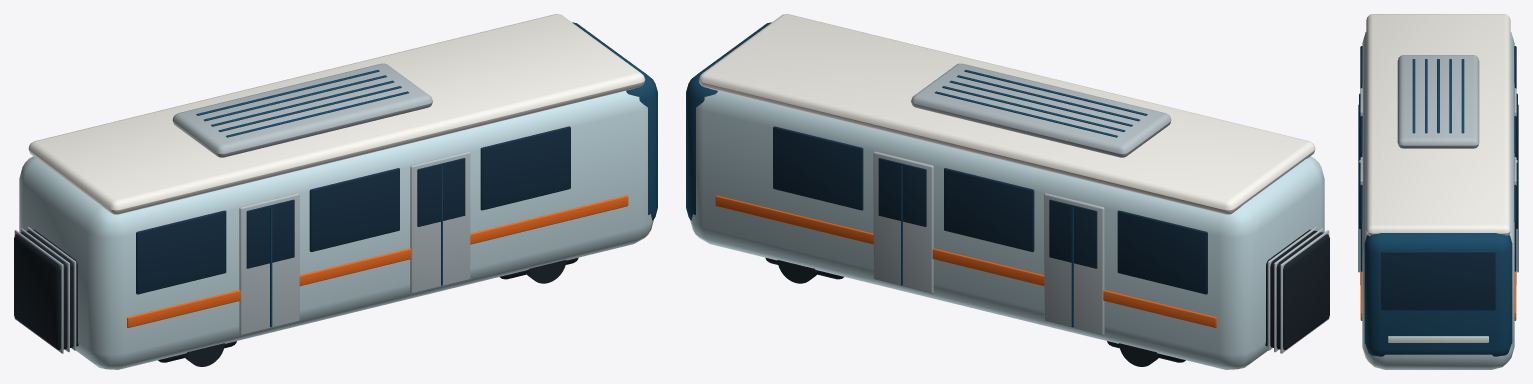
Rendered from lrt-car.glb.
3 views of the same model, side by side, from view 1: azimuth 30°, elevation 25°; view 2: azimuth 150°, elevation 25°; view 3: azimuth 270°, elevation 25° (orthographic). The views are drawn at different scales.
Visible parts, largest first — view 1: lrt-car; view 2: lrt-car; view 3: lrt-car.
Part boxes in pixels (x1,y1,x2,y2): lrt-car: [14, 14, 657, 369]; lrt-car: [686, 14, 1329, 369]; lrt-car: [1358, 14, 1518, 369].
Bounding box in the file's own units: 10.33 × 3.37 × 2.95.
